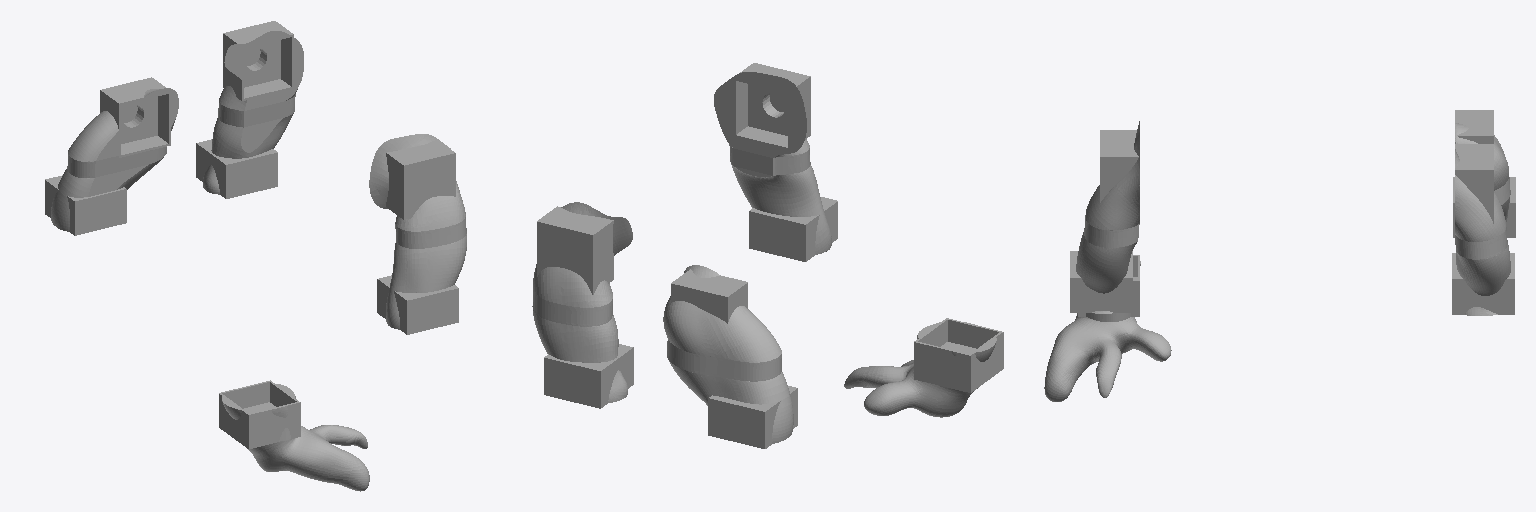
URDF robot description (FrogBot4_top-FrogBot4-y-3_bottom-FrogBot4-y-3):
<?xml version="1.0" ?>
<robot name="FrogBot4_top-FrogBot4-y-3_bottom-FrogBot4-y-3">

<material name="pla_5_percent_infill">
  <color rgba="0.700 0.700 0.700 1.000"/>
</material>

<link name="base_link">
  <inertial>
    <origin xyz="0 0 0" rpy="0 0 0"/>
    <mass value="1.4608203761339813"/>
    <inertia ixx="0.00496034401110324" iyy="0.010259632804669863" izz="0.010457868746855814" ixy="4.519338143051983e-05" iyz="5.808312742508133e-05" ixz="-0.001193761897574285"/>
  </inertial>
  <visual>
    <origin xyz="0 0 0" rpy="0 0 0"/>
    <geometry>
      <mesh filename="simple_meshes/base_link.stl" scale="0.001 0.001 0.001"/>
    </geometry>
    <material name="pla_5_percent_infill"/>
  </visual>
  <collision>
    <origin xyz="0 0 0" rpy="0 0 0"/>
    <geometry>
      <mesh filename="simple_meshes/base_link.stl" scale="0.001 0.001 0.001"/>
    </geometry>
  </collision>
</link>

<link name="body_1_0_1">
  <inertial>
    <origin xyz="-0.039935 -0.102508 -0.020563" rpy="0 0 0"/>
    <mass value="0.07144629366706118"/>
    <inertia ixx="7.542233123959208e-05" iyy="8.893405553124745e-05" izz="3.190656022220516e-05" ixy="8.958871266520293e-07" iyz="2.178495739828262e-06" ixz="-1.2484975052093947e-05"/>
  </inertial>
  <visual>
    <origin xyz="-0.039935 -0.102508 -0.020563" rpy="0 0 0"/>
    <geometry>
      <mesh filename="simple_meshes/body_1_0_1.stl" scale="0.001 0.001 0.001"/>
    </geometry>
    <material name="pla_5_percent_infill"/>
  </visual>
  <collision>
    <origin xyz="-0.039935 -0.102508 -0.020563" rpy="0 0 0"/>
    <geometry>
      <mesh filename="simple_meshes/body_1_0_1.stl" scale="0.001 0.001 0.001"/>
    </geometry>
  </collision>
</link>

<link name="body_1_1_1">
  <inertial>
    <origin xyz="0.084829 -0.102508 0.010182" rpy="0 0 0"/>
    <mass value="0.07880117918071514"/>
    <inertia ixx="5.4827380118847554e-05" iyy="9.552257855402967e-05" izz="6.0919720009596206e-05" ixy="-1.5235723012250926e-06" iyz="1.2687707818212512e-06" ixz="-2.1673407834108167e-05"/>
  </inertial>
  <visual>
    <origin xyz="0.084829 -0.102508 0.010182" rpy="0 0 0"/>
    <geometry>
      <mesh filename="simple_meshes/body_1_1_1.stl" scale="0.001 0.001 0.001"/>
    </geometry>
    <material name="pla_5_percent_infill"/>
  </visual>
  <collision>
    <origin xyz="0.084829 -0.102508 0.010182" rpy="0 0 0"/>
    <geometry>
      <mesh filename="simple_meshes/body_1_1_1.stl" scale="0.001 0.001 0.001"/>
    </geometry>
  </collision>
</link>

<link name="body_1_2_1">
  <inertial>
    <origin xyz="-0.032973 0.102508 -0.03352" rpy="0 0 0"/>
    <mass value="0.07776903154181106"/>
    <inertia ixx="9.526411621679168e-05" iyy="0.00010789375636346739" izz="3.535846431043741e-05" ixy="-2.37555302128609e-06" iyz="-1.0325512892246598e-05" ixz="-1.0659449811279055e-05"/>
  </inertial>
  <visual>
    <origin xyz="-0.032973 0.102508 -0.03352" rpy="0 0 0"/>
    <geometry>
      <mesh filename="simple_meshes/body_1_2_1.stl" scale="0.001 0.001 0.001"/>
    </geometry>
    <material name="pla_5_percent_infill"/>
  </visual>
  <collision>
    <origin xyz="-0.032973 0.102508 -0.03352" rpy="0 0 0"/>
    <geometry>
      <mesh filename="simple_meshes/body_1_2_1.stl" scale="0.001 0.001 0.001"/>
    </geometry>
  </collision>
</link>

<link name="body_1_3_1">
  <inertial>
    <origin xyz="0.075405 0.102508 -0.000907" rpy="0 0 0"/>
    <mass value="0.08438053198213159"/>
    <inertia ixx="6.0787729408156785e-05" iyy="0.00010241168200502803" izz="6.374248486077034e-05" ixy="3.0938201464342924e-07" iyz="-1.2872990172884584e-06" ixz="-2.1785447361448852e-05"/>
  </inertial>
  <visual>
    <origin xyz="0.075405 0.102508 -0.000907" rpy="0 0 0"/>
    <geometry>
      <mesh filename="simple_meshes/body_1_3_1.stl" scale="0.001 0.001 0.001"/>
    </geometry>
    <material name="pla_5_percent_infill"/>
  </visual>
  <collision>
    <origin xyz="0.075405 0.102508 -0.000907" rpy="0 0 0"/>
    <geometry>
      <mesh filename="simple_meshes/body_1_3_1.stl" scale="0.001 0.001 0.001"/>
    </geometry>
  </collision>
</link>

<link name="body_2_0_1">
  <inertial>
    <origin xyz="-0.025656 -0.145015 0.100436" rpy="0 0 0"/>
    <mass value="0.07007487479104725"/>
    <inertia ixx="4.389398440364121e-05" iyy="6.91446167399943e-05" izz="8.004083187596457e-05" ixy="-6.577873622886938e-07" iyz="-1.1177342819422391e-07" ixz="1.967434061046693e-05"/>
  </inertial>
  <visual>
    <origin xyz="-0.025656 -0.145015 0.100436" rpy="0 0 0"/>
    <geometry>
      <mesh filename="simple_meshes/body_2_0_1.stl" scale="0.001 0.001 0.001"/>
    </geometry>
    <material name="pla_5_percent_infill"/>
  </visual>
  <collision>
    <origin xyz="-0.025656 -0.145015 0.100436" rpy="0 0 0"/>
    <geometry>
      <mesh filename="simple_meshes/body_2_0_1.stl" scale="0.001 0.001 0.001"/>
    </geometry>
  </collision>
</link>

<link name="body_2_1_1">
  <inertial>
    <origin xyz="0.114857 -0.145661 0.100438" rpy="0 0 0"/>
    <mass value="0.06298721520008338"/>
    <inertia ixx="3.2514082299281086e-05" iyy="6.482717761447038e-05" izz="5.905490117860722e-05" ixy="-5.609012037292231e-06" iyz="3.887319510953446e-06" ixz="2.0068575656371568e-05"/>
  </inertial>
  <visual>
    <origin xyz="0.114857 -0.145661 0.100438" rpy="0 0 0"/>
    <geometry>
      <mesh filename="simple_meshes/body_2_1_1.stl" scale="0.001 0.001 0.001"/>
    </geometry>
    <material name="pla_5_percent_infill"/>
  </visual>
  <collision>
    <origin xyz="0.114857 -0.145661 0.100438" rpy="0 0 0"/>
    <geometry>
      <mesh filename="simple_meshes/body_2_1_1.stl" scale="0.001 0.001 0.001"/>
    </geometry>
  </collision>
</link>

<link name="body_2_2_1">
  <inertial>
    <origin xyz="-0.022601 0.152053 0.100436" rpy="0 0 0"/>
    <mass value="0.07770135432815288"/>
    <inertia ixx="4.8473858452904514e-05" iyy="7.492619992616623e-05" izz="8.720529197772837e-05" ixy="-1.518928222088759e-06" iyz="2.2126559400589135e-07" ixz="2.11838450998919e-05"/>
  </inertial>
  <visual>
    <origin xyz="-0.022601 0.152053 0.100436" rpy="0 0 0"/>
    <geometry>
      <mesh filename="simple_meshes/body_2_2_1.stl" scale="0.001 0.001 0.001"/>
    </geometry>
    <material name="pla_5_percent_infill"/>
  </visual>
  <collision>
    <origin xyz="-0.022601 0.152053 0.100436" rpy="0 0 0"/>
    <geometry>
      <mesh filename="simple_meshes/body_2_2_1.stl" scale="0.001 0.001 0.001"/>
    </geometry>
  </collision>
</link>

<link name="body_2_3_1">
  <inertial>
    <origin xyz="0.12145 0.146005 0.100436" rpy="0 0 0"/>
    <mass value="0.060238847933080736"/>
    <inertia ixx="3.856857507410693e-05" iyy="5.224331007420112e-05" izz="5.9562273070122487e-05" ixy="8.22696729869119e-06" iyz="-6.758235078979874e-06" ixz="1.4434811045756506e-05"/>
  </inertial>
  <visual>
    <origin xyz="0.12145 0.146005 0.100436" rpy="0 0 0"/>
    <geometry>
      <mesh filename="simple_meshes/body_2_3_1.stl" scale="0.001 0.001 0.001"/>
    </geometry>
    <material name="pla_5_percent_infill"/>
  </visual>
  <collision>
    <origin xyz="0.12145 0.146005 0.100436" rpy="0 0 0"/>
    <geometry>
      <mesh filename="simple_meshes/body_2_3_1.stl" scale="0.001 0.001 0.001"/>
    </geometry>
  </collision>
</link>

<joint name="joint_1_0" type="revolute">
  <origin xyz="0.039935 0.102508 0.020563" rpy="0 0 0"/>
  <parent link="base_link"/>
  <child link="body_1_0_1"/>
  <axis xyz="0.0 0.0 -1.0"/>
  <limit upper="1.2" lower="-1.2" effort="3.8" velocity="5.4"/>
</joint>
<transmission name="joint_1_0_tran">
  <type>transmission_interface/SimpleTransmission</type>
  <joint name="joint_1_0">
    <hardwareInterface>PositionJointInterface</hardwareInterface>
  </joint>
  <actuator name="joint_1_0_actr">
    <hardwareInterface>PositionJointInterface</hardwareInterface>
    <mechanicalReduction>1</mechanicalReduction>
  </actuator>
</transmission>

<joint name="joint_1_1" type="revolute">
  <origin xyz="-0.084829 0.102508 -0.010182" rpy="0 0 0"/>
  <parent link="base_link"/>
  <child link="body_1_1_1"/>
  <axis xyz="0.0 0.0 -1.0"/>
  <limit upper="1.2" lower="-1.2" effort="3.8" velocity="5.4"/>
</joint>
<transmission name="joint_1_1_tran">
  <type>transmission_interface/SimpleTransmission</type>
  <joint name="joint_1_1">
    <hardwareInterface>PositionJointInterface</hardwareInterface>
  </joint>
  <actuator name="joint_1_1_actr">
    <hardwareInterface>PositionJointInterface</hardwareInterface>
    <mechanicalReduction>1</mechanicalReduction>
  </actuator>
</transmission>

<joint name="joint_1_2" type="revolute">
  <origin xyz="0.032973 -0.102508 0.03352" rpy="0 0 0"/>
  <parent link="base_link"/>
  <child link="body_1_2_1"/>
  <axis xyz="0.0 0.0 -1.0"/>
  <limit upper="1.2" lower="-1.2" effort="3.8" velocity="5.4"/>
</joint>
<transmission name="joint_1_2_tran">
  <type>transmission_interface/SimpleTransmission</type>
  <joint name="joint_1_2">
    <hardwareInterface>PositionJointInterface</hardwareInterface>
  </joint>
  <actuator name="joint_1_2_actr">
    <hardwareInterface>PositionJointInterface</hardwareInterface>
    <mechanicalReduction>1</mechanicalReduction>
  </actuator>
</transmission>

<joint name="joint_1_3" type="revolute">
  <origin xyz="-0.075405 -0.102508 0.000907" rpy="0 0 0"/>
  <parent link="base_link"/>
  <child link="body_1_3_1"/>
  <axis xyz="0.0 0.0 -1.0"/>
  <limit upper="1.2" lower="-1.2" effort="3.8" velocity="5.4"/>
</joint>
<transmission name="joint_1_3_tran">
  <type>transmission_interface/SimpleTransmission</type>
  <joint name="joint_1_3">
    <hardwareInterface>PositionJointInterface</hardwareInterface>
  </joint>
  <actuator name="joint_1_3_actr">
    <hardwareInterface>PositionJointInterface</hardwareInterface>
    <mechanicalReduction>1</mechanicalReduction>
  </actuator>
</transmission>

<joint name="joint_2_0" type="revolute">
  <origin xyz="-0.014279 0.042507 -0.120999" rpy="0 0 0"/>
  <parent link="body_1_0_1"/>
  <child link="body_2_0_1"/>
  <axis xyz="0.0 1.0 0.0"/>
  <limit upper="1.2" lower="-1.2" effort="3.8" velocity="5.4"/>
</joint>
<transmission name="joint_2_0_tran">
  <type>transmission_interface/SimpleTransmission</type>
  <joint name="joint_2_0">
    <hardwareInterface>PositionJointInterface</hardwareInterface>
  </joint>
  <actuator name="joint_2_0_actr">
    <hardwareInterface>PositionJointInterface</hardwareInterface>
    <mechanicalReduction>1</mechanicalReduction>
  </actuator>
</transmission>

<joint name="joint_2_1" type="revolute">
  <origin xyz="-0.030028 0.043153 -0.090256" rpy="0 0 0"/>
  <parent link="body_1_1_1"/>
  <child link="body_2_1_1"/>
  <axis xyz="0.0 1.0 0.0"/>
  <limit upper="1.2" lower="-1.2" effort="3.8" velocity="5.4"/>
</joint>
<transmission name="joint_2_1_tran">
  <type>transmission_interface/SimpleTransmission</type>
  <joint name="joint_2_1">
    <hardwareInterface>PositionJointInterface</hardwareInterface>
  </joint>
  <actuator name="joint_2_1_actr">
    <hardwareInterface>PositionJointInterface</hardwareInterface>
    <mechanicalReduction>1</mechanicalReduction>
  </actuator>
</transmission>

<joint name="joint_2_2" type="revolute">
  <origin xyz="-0.010372 -0.049545 -0.133956" rpy="0 0 0"/>
  <parent link="body_1_2_1"/>
  <child link="body_2_2_1"/>
  <axis xyz="0.0 1.0 0.0"/>
  <limit upper="1.2" lower="-1.2" effort="3.8" velocity="5.4"/>
</joint>
<transmission name="joint_2_2_tran">
  <type>transmission_interface/SimpleTransmission</type>
  <joint name="joint_2_2">
    <hardwareInterface>PositionJointInterface</hardwareInterface>
  </joint>
  <actuator name="joint_2_2_actr">
    <hardwareInterface>PositionJointInterface</hardwareInterface>
    <mechanicalReduction>1</mechanicalReduction>
  </actuator>
</transmission>

<joint name="joint_2_3" type="revolute">
  <origin xyz="-0.046045 -0.043497 -0.101343" rpy="0 0 0"/>
  <parent link="body_1_3_1"/>
  <child link="body_2_3_1"/>
  <axis xyz="0.0 1.0 0.0"/>
  <limit upper="1.2" lower="-1.2" effort="3.8" velocity="5.4"/>
</joint>
<transmission name="joint_2_3_tran">
  <type>transmission_interface/SimpleTransmission</type>
  <joint name="joint_2_3">
    <hardwareInterface>PositionJointInterface</hardwareInterface>
  </joint>
  <actuator name="joint_2_3_actr">
    <hardwareInterface>PositionJointInterface</hardwareInterface>
    <mechanicalReduction>1</mechanicalReduction>
  </actuator>
</transmission>

</robot>

--- What the picture shows (computed from the rendered views, not written in the file) ---
Views: 3 orthographic renders of the robot side by side, from view 1: azimuth 30°, elevation 25°; view 2: azimuth 150°, elevation 25°; view 3: azimuth 270°, elevation 25°.
Robot: FrogBot4_top-FrogBot4-y-3_bottom-FrogBot4-y-3 — 9 links, 8 joints (8 revolute); root link base_link; default pose: every joint at zero.
Links seen in each view (by area): view 1: body_1_2_1, body_1_0_1, body_1_1_1, body_2_3_1; view 2: body_1_0_1, body_1_1_1, body_1_2_1, body_2_3_1; view 3: body_1_2_1, body_1_0_1, body_2_3_1, body_1_1_1.
Link boxes in pixels (left/top/right/bottom): body_1_2_1: left=369, top=134, right=466, bottom=334; body_1_0_1: left=196, top=21, right=303, bottom=198; body_1_1_1: left=45, top=77, right=178, bottom=235; body_2_3_1: left=219, top=380, right=369, bottom=491; body_1_0_1: left=532, top=202, right=633, bottom=408; body_1_1_1: left=663, top=265, right=797, bottom=448; body_1_2_1: left=714, top=63, right=837, bottom=261; body_2_3_1: left=844, top=318, right=1003, bottom=417; body_1_2_1: left=1070, top=121, right=1139, bottom=313; body_1_0_1: left=1452, top=142, right=1514, bottom=315; body_2_3_1: left=1044, top=255, right=1171, bottom=401; body_1_1_1: left=1453, top=110, right=1515, bottom=237.
Bounding box of the posed robot: 0.2266 × 0.3663 × 0.2708 m (x, y, z).
4 mesh visuals loaded from 9 distinct referenced files (4 binary STL); not drawn: 5 (reference not matched to a file when rendering).